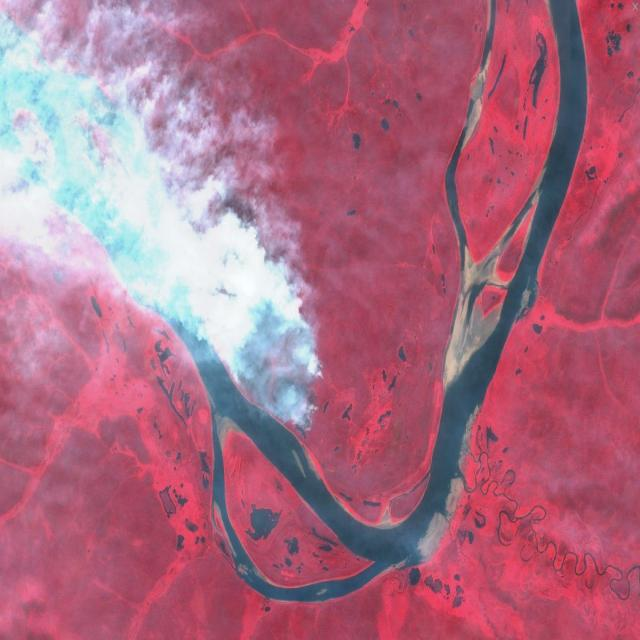fire: (195, 256, 329, 437)
